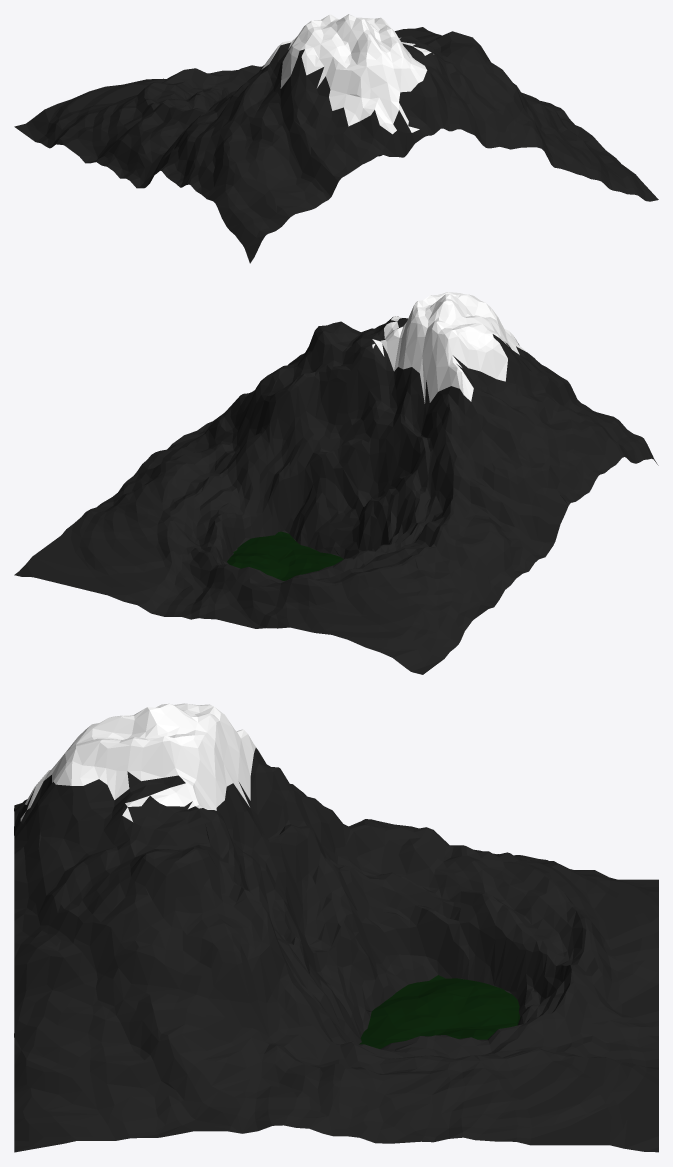
3 views of the same model, one above another, from view 1: azimuth 30°, elevation 25°; view 2: azimuth 150°, elevation 25°; view 3: azimuth 270°, elevation 25° (orthographic). The views are drawn at different scales.
Visible parts, largest first — view 1: Terrain2; view 2: Terrain2; view 3: Terrain2.
Part boxes in pixels (x1,y1,x2,y2): Terrain2: [14, 14, 658, 263]; Terrain2: [14, 292, 658, 674]; Terrain2: [14, 703, 658, 1152].
Bounding box in the file's own units: 64.6 × 32 × 64.59.
